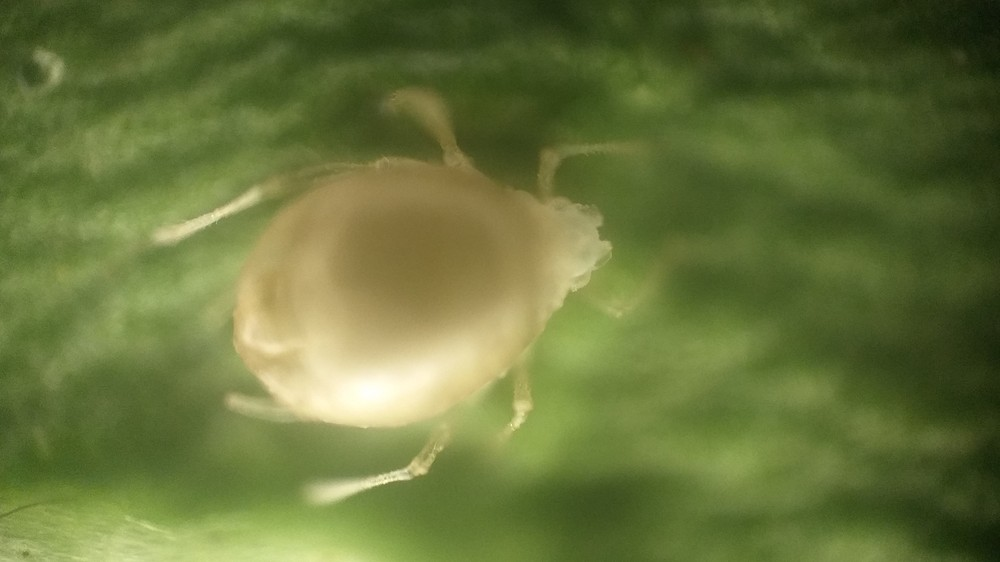Pulgon: (150, 83, 719, 519)
